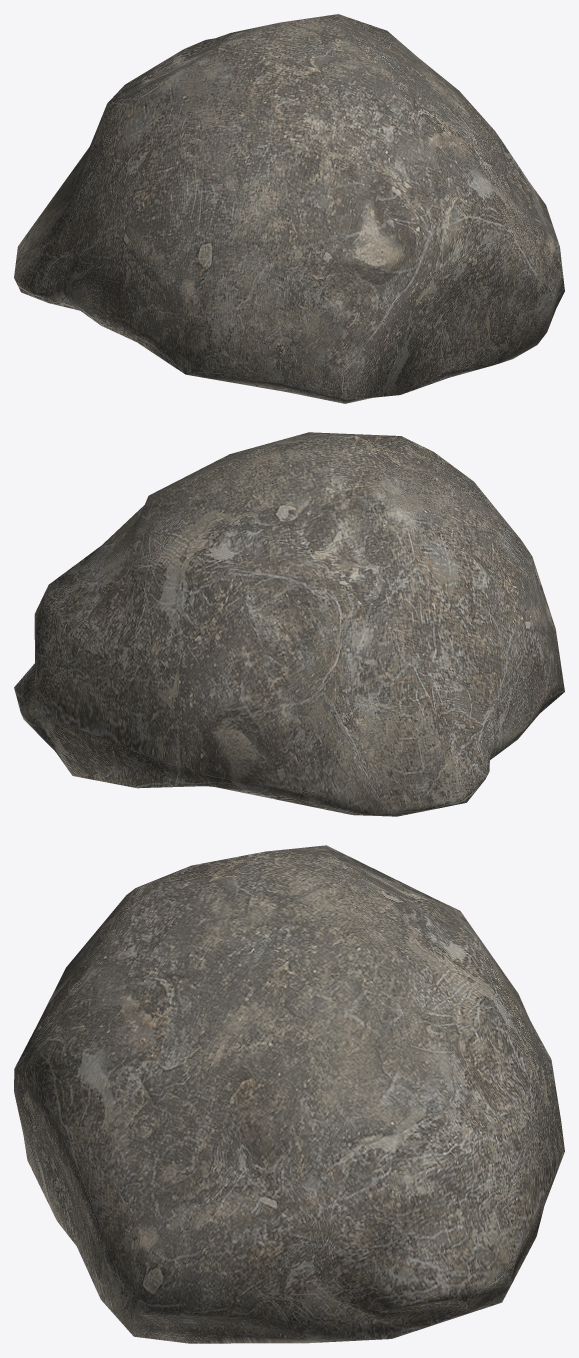
The model's file is Boulde.fbx.
3 renders of one model, top to bottom at view 1: azimuth 30°, elevation 25°; view 2: azimuth 150°, elevation 25°; view 3: azimuth 270°, elevation 25°, orthographic. The views are drawn at different scales.
Parts seen in each view (by area): view 1: Boulde; view 2: Boulde; view 3: Boulde.
Part boxes in pixels (x1,y1,x2,y2): Boulde: (14, 14, 564, 403); Boulde: (14, 432, 564, 816); Boulde: (14, 845, 564, 1343).
Bounding box in the file's own units: 537 × 361 × 492.
